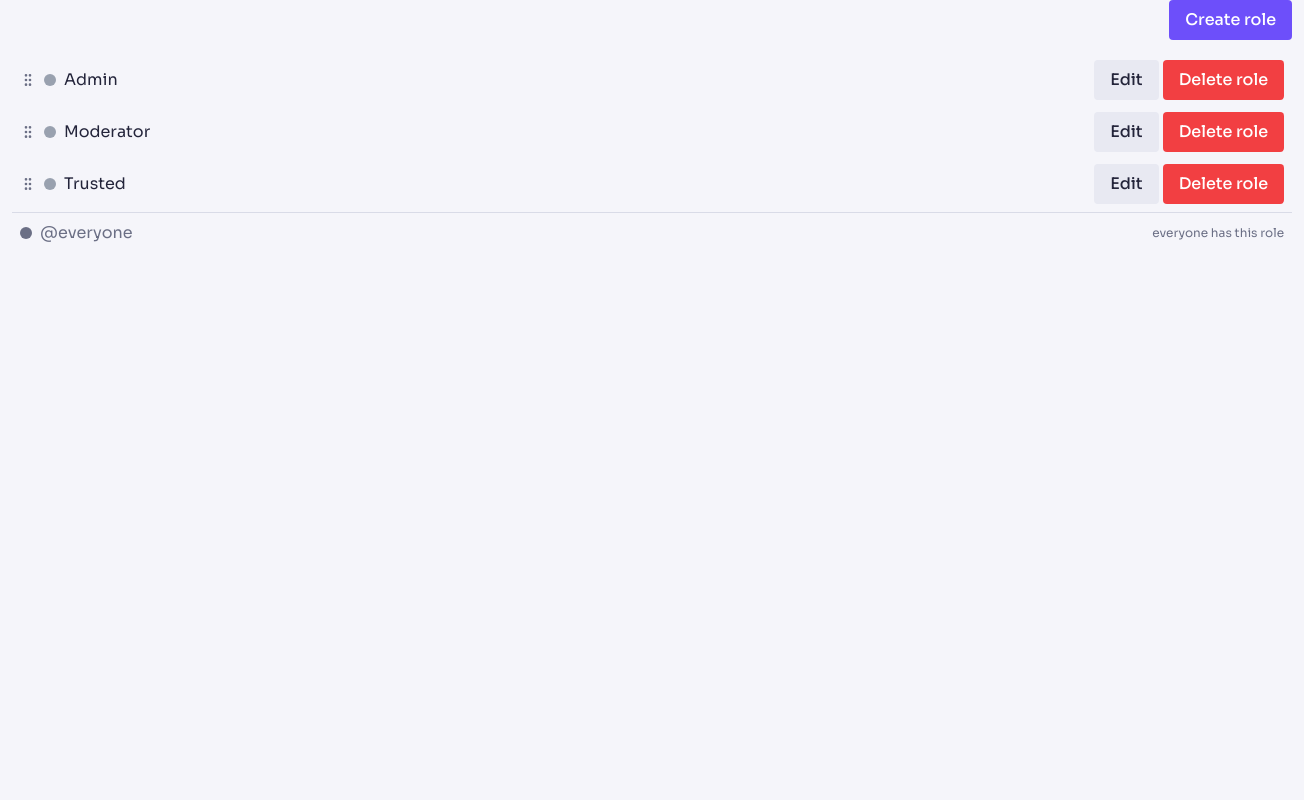
Test case: RolesTab › opens the editor prefilled when Edit is clicked, and Cancel returns to the list
Click the button "Edit" in the row of "Moderator" at point(1126, 132), box [1094,112,1159,152]
(page scrolled)
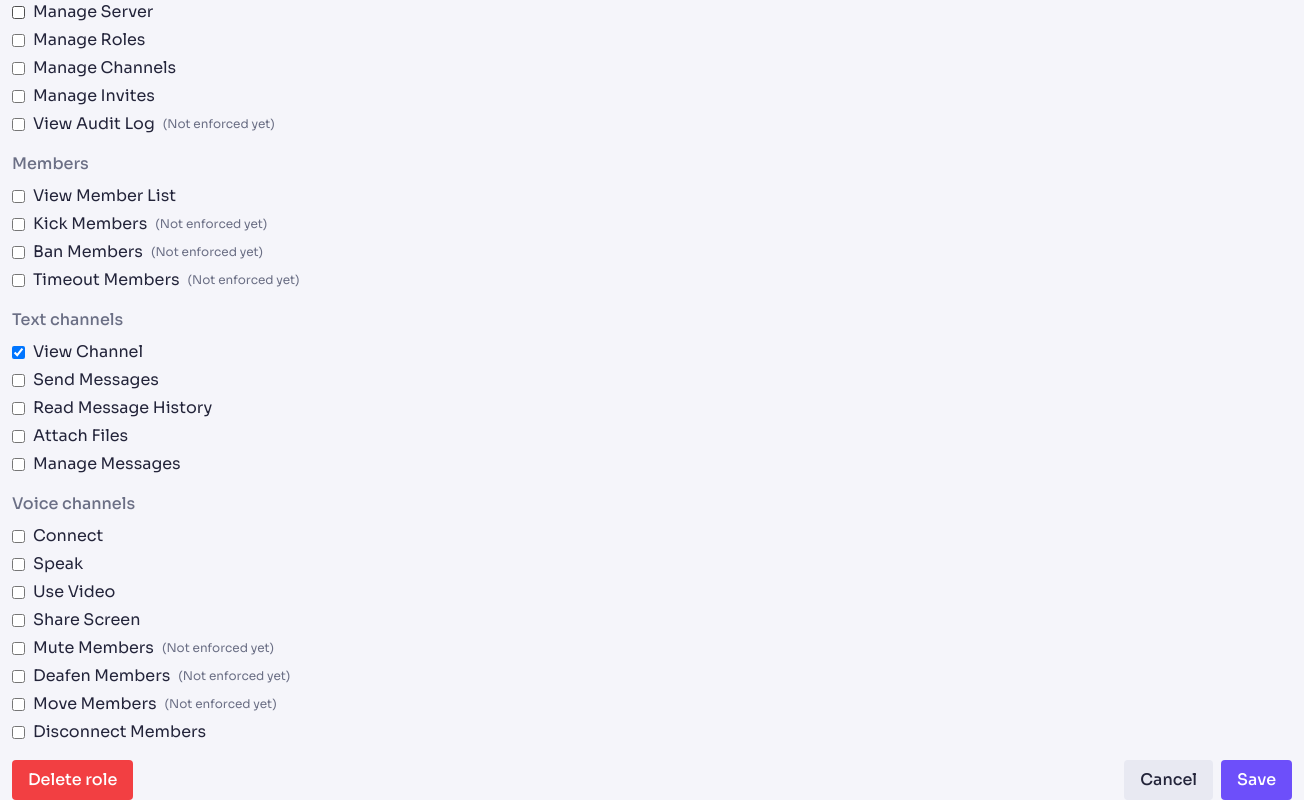
Click the button "Cancel" at point(1169, 780), box [1124,760,1213,799]
(page scrolled)
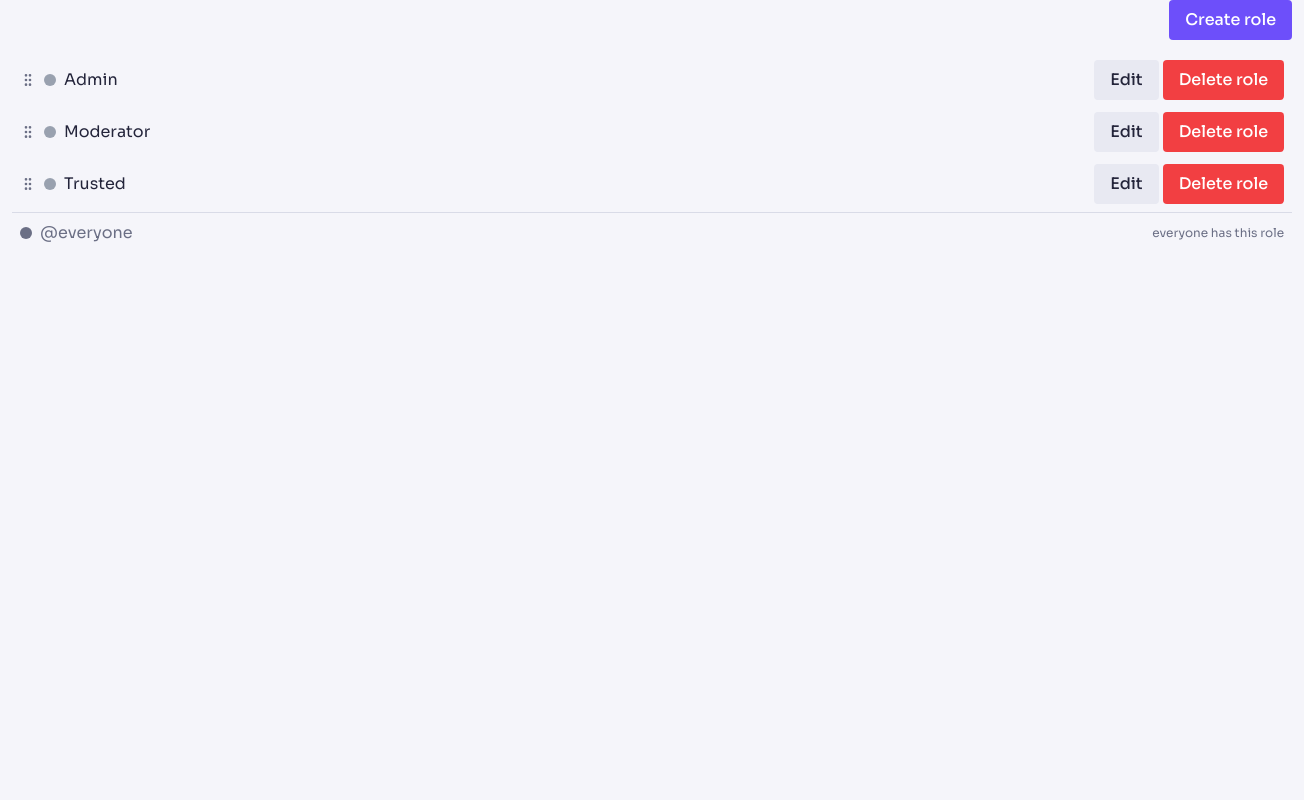
Check: the number of list items is 4, box [12,56,1292,104]; [12,108,1292,156]; [12,160,1292,208]; [12,212,1292,245]
Check: the button "Create role" is shown, box [1169,0,1292,40]
